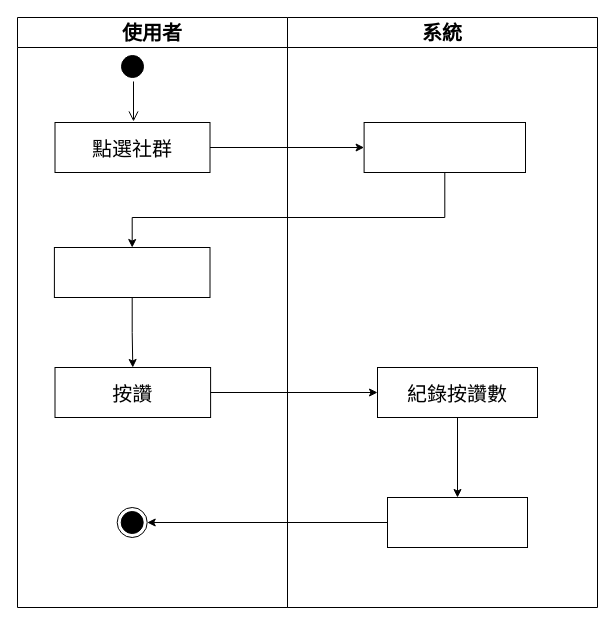
Image size: 615x625. Some labels were removed from this diagram. Each missing label, with the centre of its shape:
"顯示按讚成功" belongs at point 457,522.
"顯示社群頁面" belongs at point 444,147.
"點選貼文" belongs at point 131,272.
